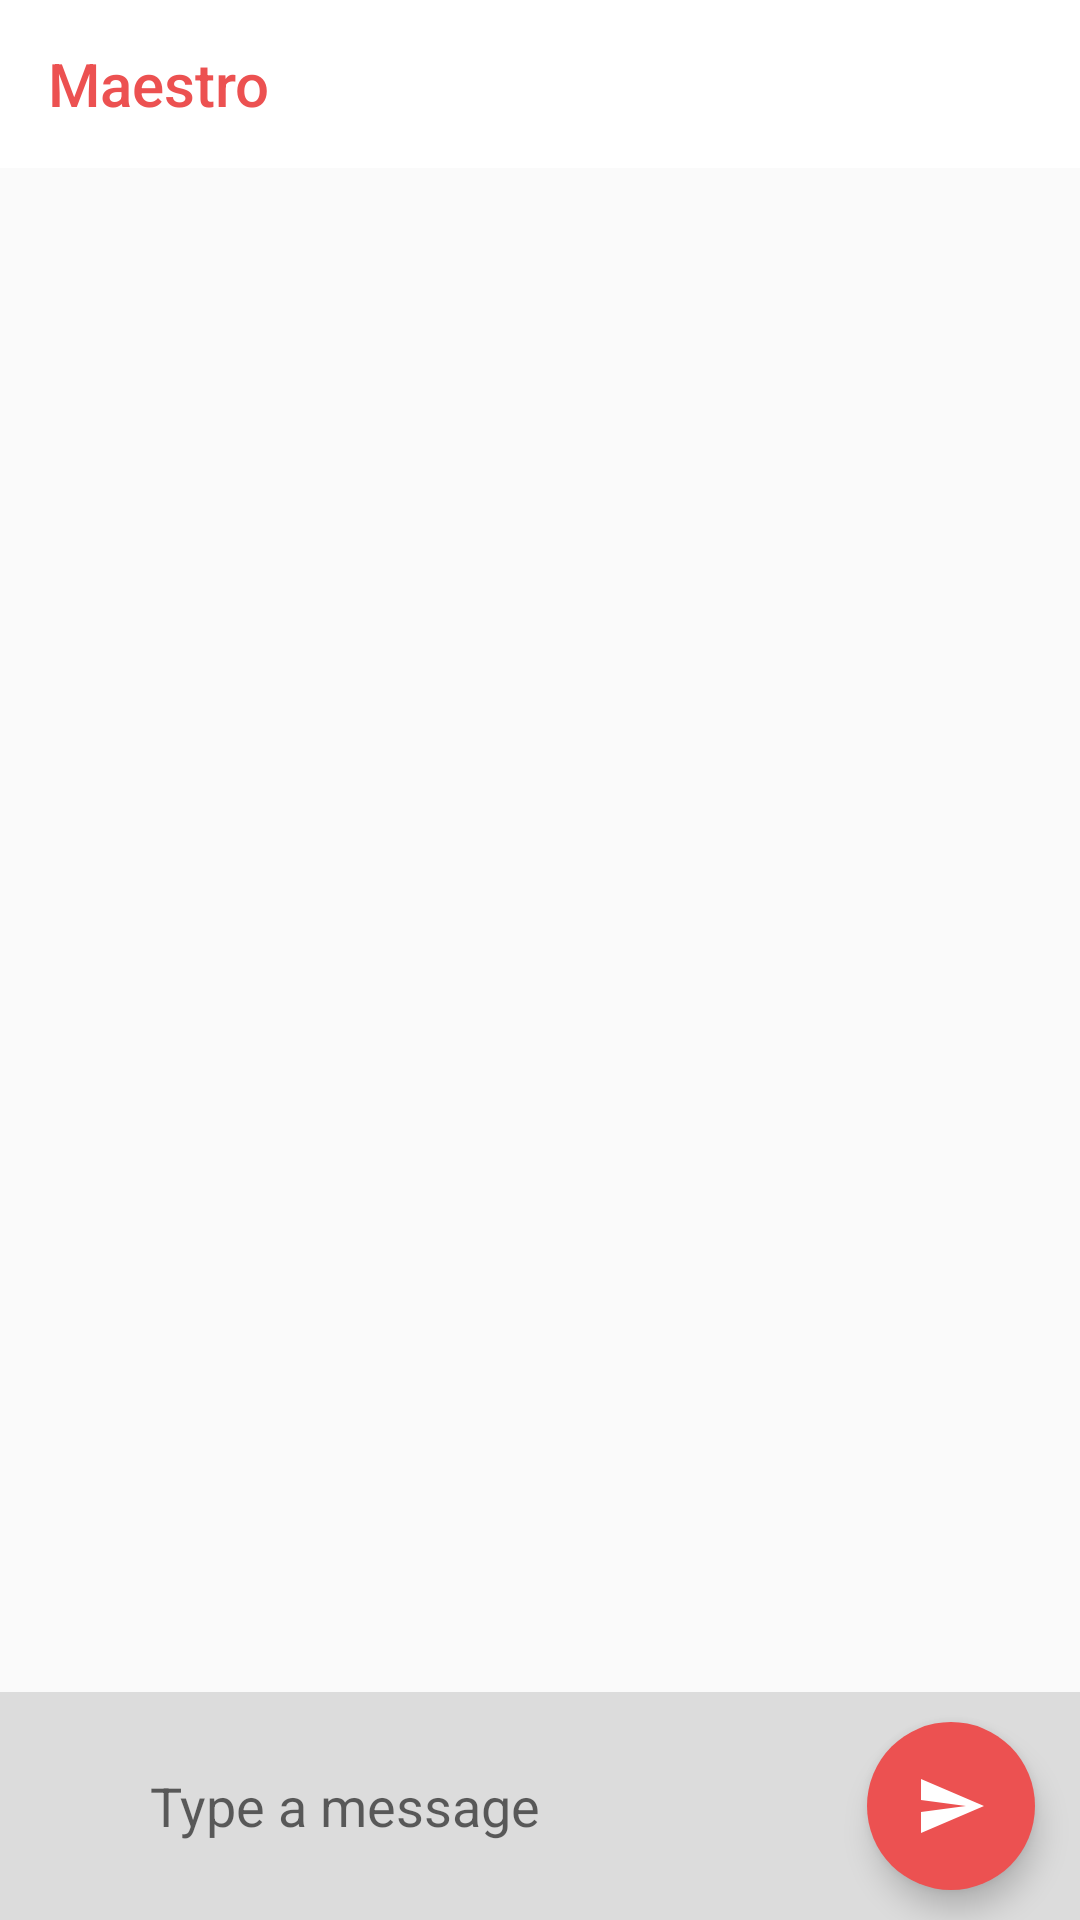

Icon bounding boxes for this 1080*1920 phone screenshot, format (x1, y1, x2, y2):
send: (867, 1722, 1035, 1890)
